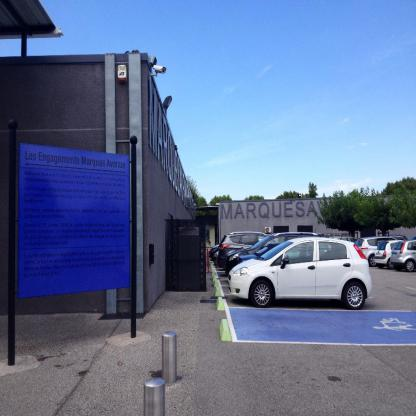Car: (212, 230, 416, 308)
